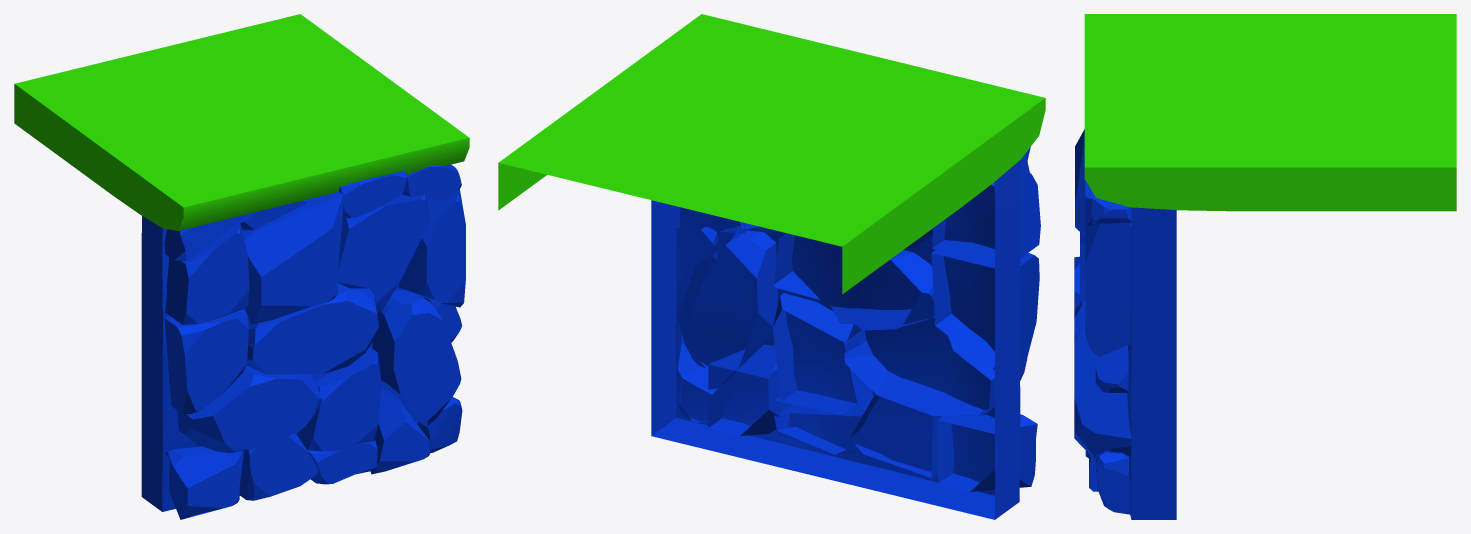
File: RockWall 1.fbx
3 views of the same model, side by side, from view 1: azimuth 30°, elevation 25°; view 2: azimuth 150°, elevation 25°; view 3: azimuth 270°, elevation 25° (orthographic). The views are drawn at different scales.
Visible parts, largest first — view 1: Cube.002; view 2: Cube.002; view 3: Cube.002.
Boxes of the visible parts, x1,y1,x2,y2 form: Cube.002: (14, 14, 469, 519); Cube.002: (498, 14, 1045, 519); Cube.002: (1074, 14, 1456, 519).
Size of the model in its own units: 1011 by 1078 by 1053.
